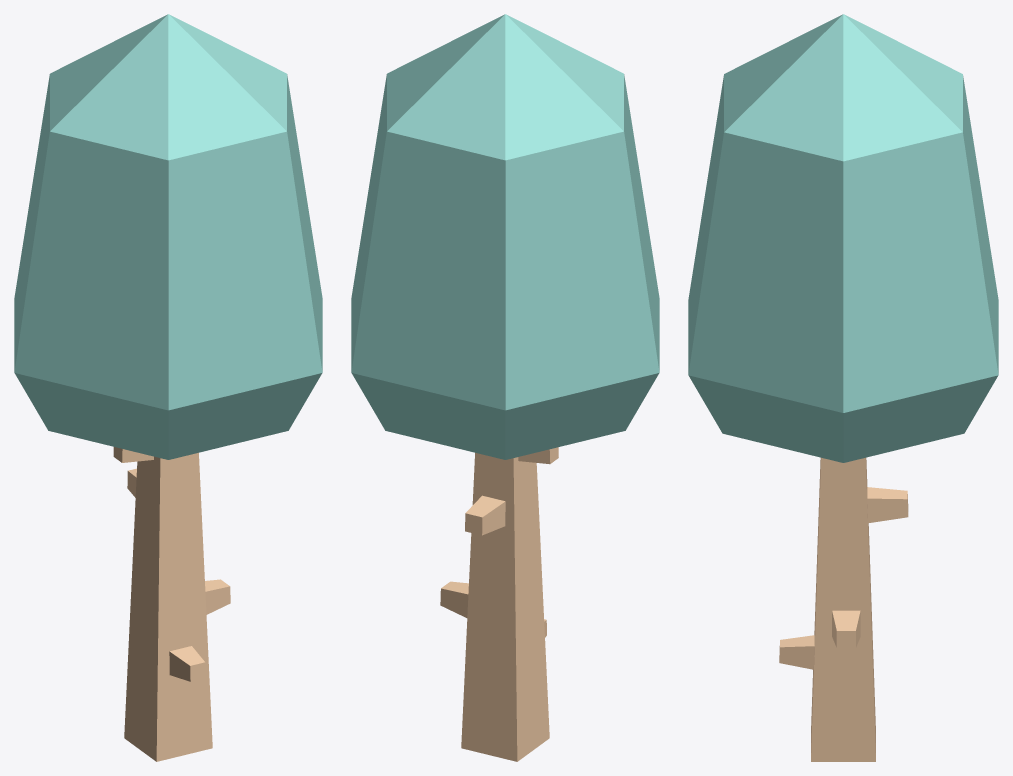
The model's file is tree_default.gltf.
The picture shows the model from 3 angles, left to right: view 1: azimuth 30°, elevation 25°; view 2: azimuth 150°, elevation 25°; view 3: azimuth 270°, elevation 25°; orthographic projection.
Parts seen in each view (by area): view 1: tree_default; view 2: tree_default; view 3: tree_default.
Part boxes in pixels (bbox=[...]): tree_default: bbox=[14, 14, 322, 761]; tree_default: bbox=[351, 14, 659, 761]; tree_default: bbox=[688, 14, 998, 761].
Bounding box in the file's own units: 0.755 × 1.71 × 0.6538.
